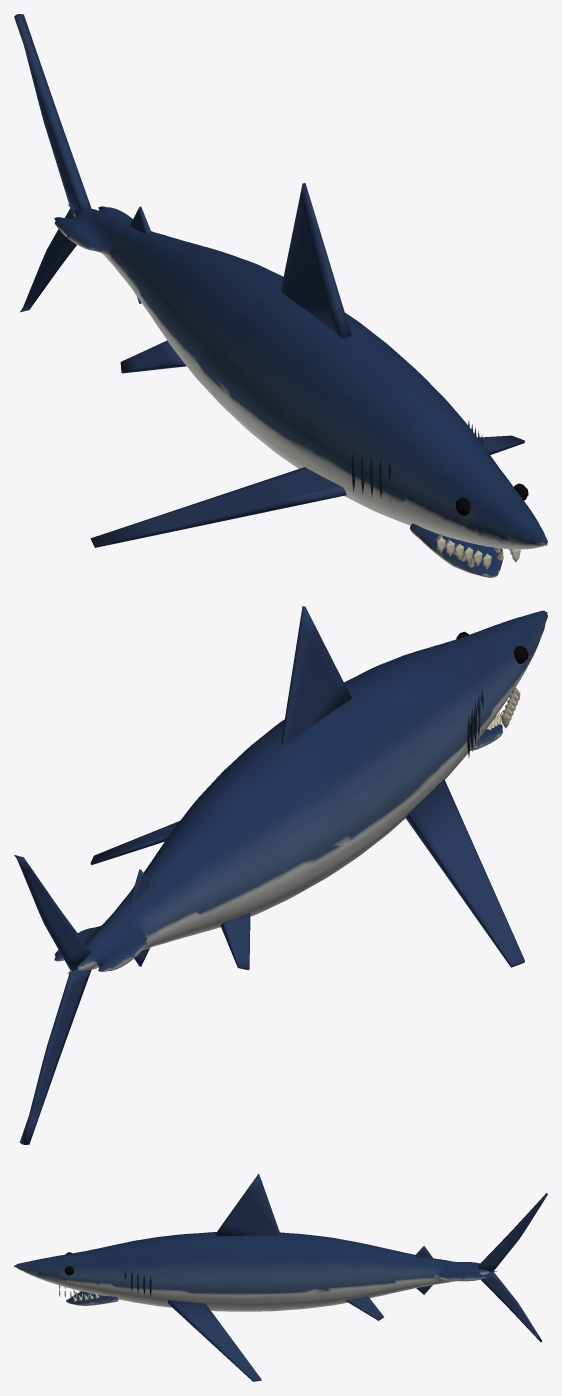
File: CarcharodonHastalis.fbx
3 views of the same model, one above another, from view 1: azimuth 30°, elevation 25°; view 2: azimuth 150°, elevation 25°; view 3: azimuth 270°, elevation 25° (orthographic). The views are drawn at different scales.
Visible parts, largest first — view 1: CarcharodonHastalis; view 2: CarcharodonHastalis; view 3: CarcharodonHastalis.
Part boxes in pixels (<box>): CarcharodonHastalis: <box>14,14,547,577</box>; CarcharodonHastalis: <box>14,606,547,1144</box>; CarcharodonHastalis: <box>14,1173,547,1381</box>.
Bounding box in the file's own units: 0.8815 × 0.65 × 1.87.
